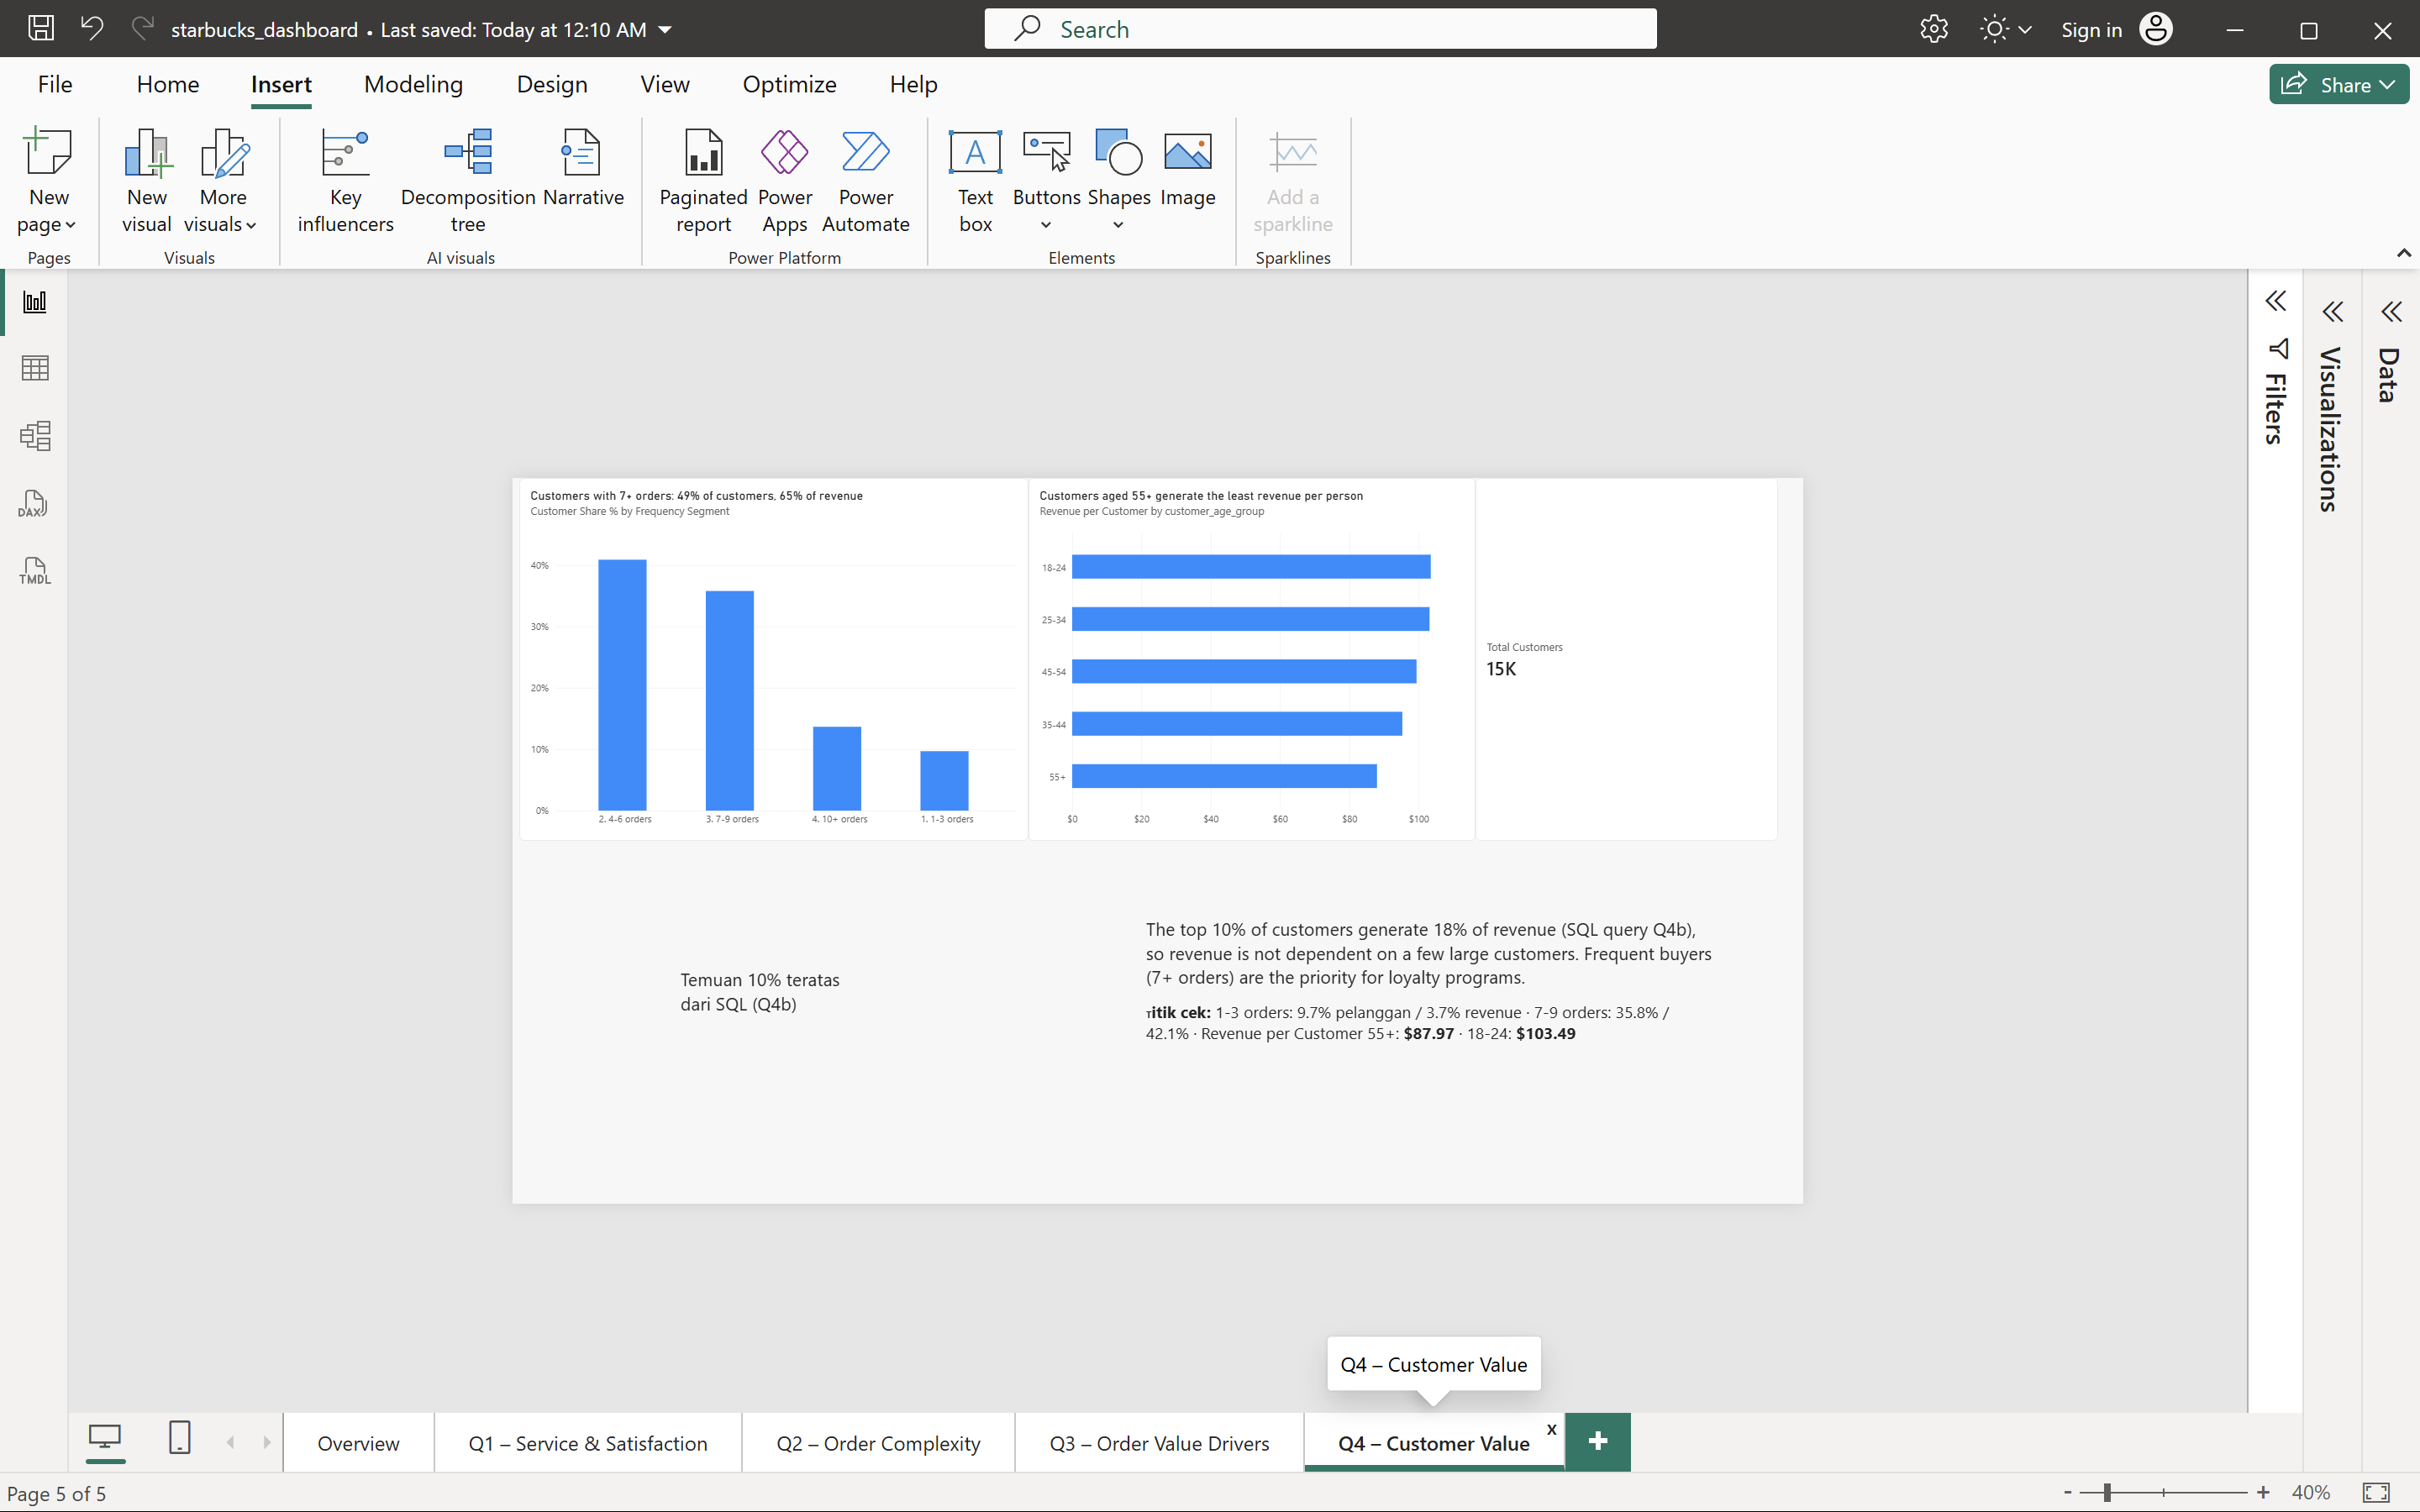

The page's visual inventory and layout, read from the dashboard file:
{"tool":"powerbi","page":{"name":"Q4 – Customer Value","canvas":[1920,1080],"ordinal":4},"visuals":[{"type":"clusteredColumnChart","title":"Customers with 7+ orders: 49% of customers, 65% of revenue","fields":{"Category":["dim_customer.Frequency Segment"],"Y":["fact_orders.Customer Share %"]},"box":[10,0,757.5,540],"z":0},{"type":"clusteredBarChart","title":"Customers aged 55+ generate the least revenue per person","fields":{"Category":["dim_customer.customer_age_group"],"Y":["fact_orders.Revenue per Customer"]},"box":[767.5,0,665,540],"z":1000},{"type":"cardVisual","fields":{"Data":["fact_orders.Total Customers"]},"box":[1432.5,0,450,540],"z":2000},{"type":"textbox","box":[250,727.5,280,210],"z":3000},{"type":"textbox","box":[942.5,652.5,842.5,427.5],"z":3001}]}

Visuals, with their boxes on the page's 1920x1080 design canvas (x1, y1, x2, y2). These are canvas units, not pixel positions in the 2420x1512 screenshot, which may show the page scaled, cropped or inside an application window:
"Customers with 7+ orders: 49% of customers, 65% of revenue" clusteredColumnChart: [left=10, top=0, right=768, bottom=540]
"Customers aged 55+ generate the least revenue per person" clusteredBarChart: [left=768, top=0, right=1432, bottom=540]
cardVisual - fact_orders.Total Customers: [left=1432, top=0, right=1882, bottom=540]
textbox: [left=250, top=728, right=530, bottom=938]
textbox: [left=942, top=652, right=1785, bottom=1080]
